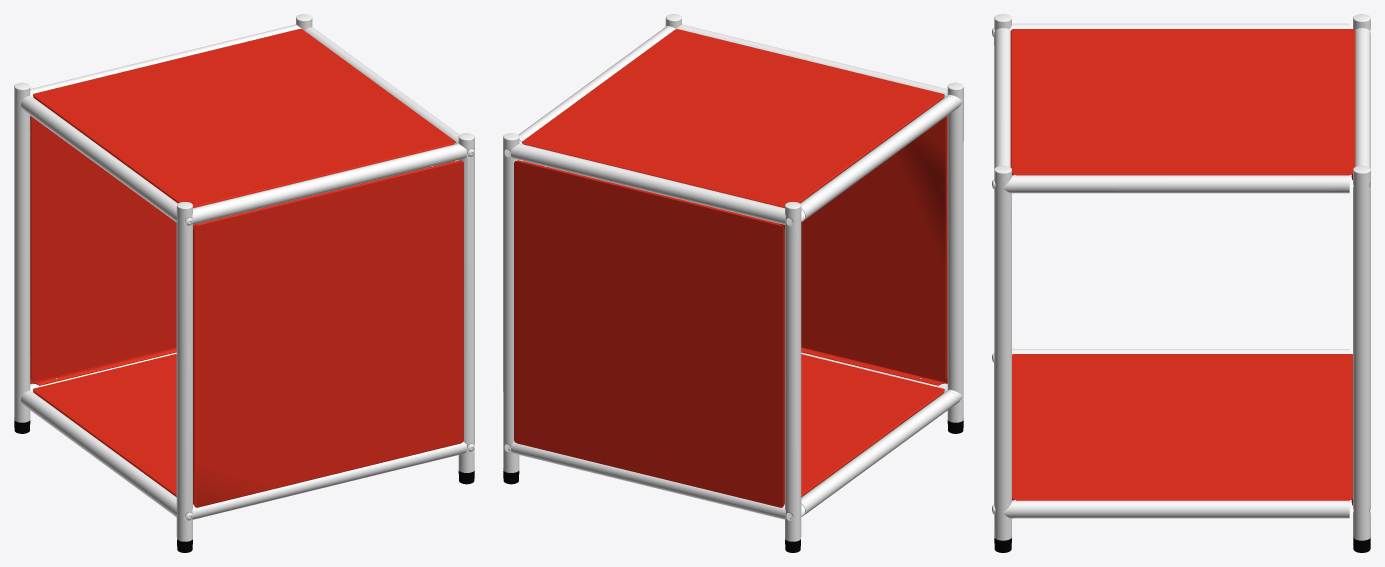
The model's file is 40x40x40-2-7-red_optimized_optimized.glb.
3 views of the same model, side by side, from view 1: azimuth 30°, elevation 25°; view 2: azimuth 150°, elevation 25°; view 3: azimuth 270°, elevation 25° (orthographic). The views are drawn at different scales.
Visible parts, largest first — view 1: 直角鐵板-40x40-5 - 零件, 反-鐵管-40-354..4-1 - 零件, 圓形腳+調整器-1 - 零件; view 2: 直角鐵板-40x40-5 - 零件, 反-鐵管-40-354..4-1 - 零件, 圓形腳+調整器-1 - 零件; view 3: 直角鐵板-40x40-5 - 零件, 反-鐵管-40-354..4-1 - 零件.
Part boxes in pixels (box(x1,y1,x2,y2)): 直角鐵板-40x40-5 - 零件: box(30, 28, 463, 507); 反-鐵管-40-354..4-1 - 零件: box(14, 14, 474, 541); 圓形腳+調整器-1 - 零件: box(14, 420, 474, 552); 直角鐵板-40x40-5 - 零件: box(514, 29, 947, 507); 反-鐵管-40-354..4-1 - 零件: box(503, 14, 963, 541); 圓形腳+調整器-1 - 零件: box(503, 420, 963, 552); 直角鐵板-40x40-5 - 零件: box(1010, 29, 1355, 505); 反-鐵管-40-354..4-1 - 零件: box(992, 14, 1370, 540).
Size of the model in its own units: 0.3992 by 0.4453 by 0.4013.
